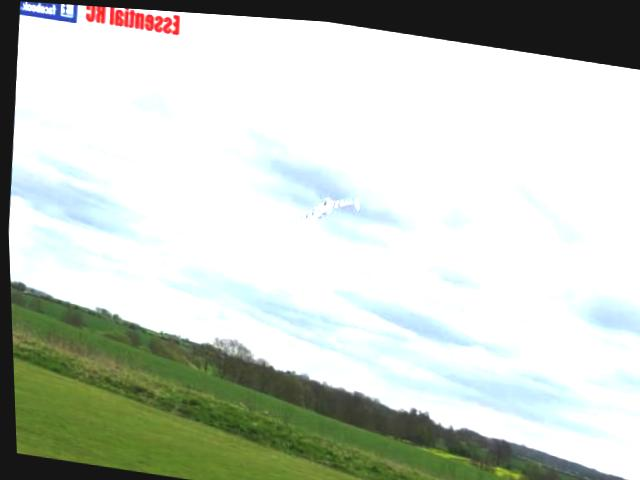flying wing: (277, 179, 365, 246)
